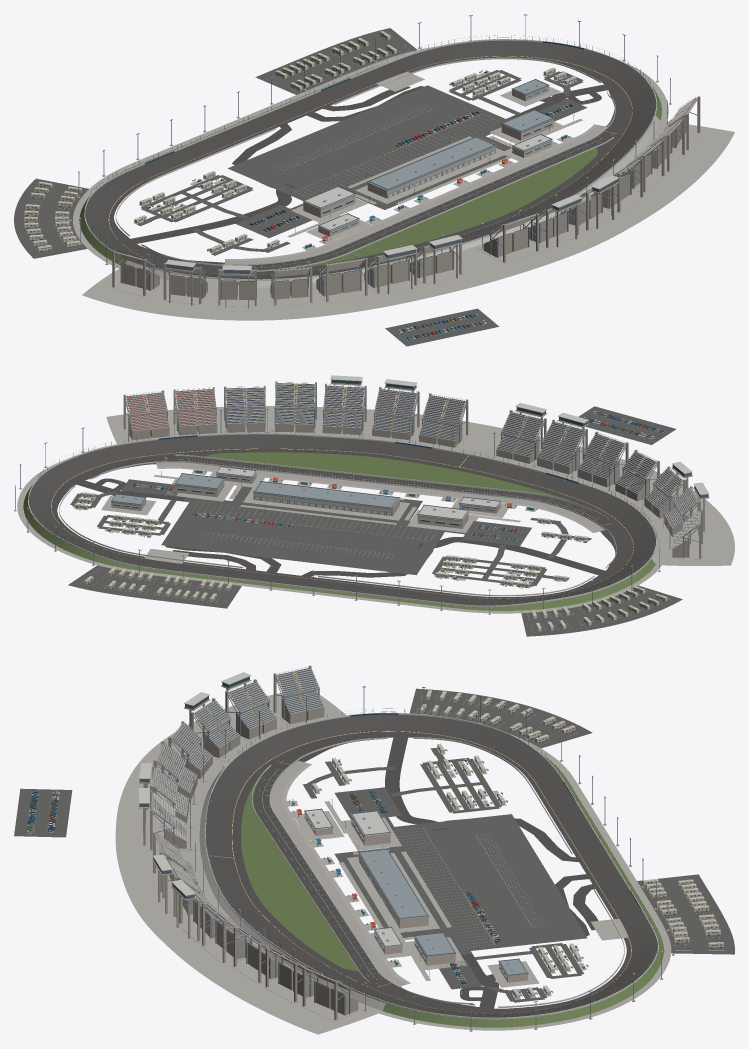
Rendered from RichmondRaceway.fbx.
The picture shows the model from 3 angles, top to bottom: view 1: azimuth 30°, elevation 25°; view 2: azimuth 150°, elevation 25°; view 3: azimuth 270°, elevation 25°; orthographic projection. The views are drawn at different scales.
Visible parts, largest first — view 1: Richmond paved safety access and recovery yard, Richmond frontstretch concrete concourse, Racing surface, Frontstretch grass median, Apron asphalt, Richmond infield campground roads and camping pads, Richmond 40-stall Cup garage, Pit road asphalt, Richmond backstretch RV camping paving and spaces, Richmond turn 3 RV camping paving and spaces, Richmond concrete perimeter walkway, Outside continuous concrete wall (+35 smaller); view 2: Racing surface, Richmond paved safety access and recovery yard, Richmond frontstretch concrete concourse, Frontstretch grass median, Apron asphalt, Richmond 40-stall Cup garage, Outer banking embankment, Richmond backstretch RV camping paving and spaces, Richmond turn 3 RV camping paving and spaces, Richmond concrete perimeter walkway, Richmond infield campground roads and camping pads, Outside continuous concrete wall (+38 smaller); view 3: Richmond paved safety access and recovery yard, Racing surface, Richmond frontstretch concrete concourse, Frontstretch grass median, Apron asphalt, Richmond infield campground roads and camping pads, Richmond concrete perimeter walkway, Pit road asphalt, Richmond 40-stall Cup garage, Richmond turn 3 RV camping paving and spaces, Outer banking embankment, Richmond backstretch RV camping paving and spaces (+33 smaller).
Boxes of the visible parts, <box> form: Richmond paved safety access and recovery yard: <box>228,71,570,209</box>; Richmond frontstretch concrete concourse: <box>82,115,734,320</box>; Racing surface: <box>85,40,656,279</box>; Frontstretch grass median: <box>292,147,597,268</box>; Apron asphalt: <box>109,56,631,274</box>; Richmond infield campground roads and camping pads: <box>133,70,583,255</box>; Richmond 40-stall Cup garage: <box>355,136,506,203</box>; Pit road asphalt: <box>245,127,621,270</box>; Richmond backstretch RV camping paving and spaces: <box>255,28,417,94</box>; Richmond turn 3 RV camping paving and spaces: <box>14,178,88,258</box>; Richmond concrete perimeter walkway: <box>73,46,668,290</box>; Outside continuous concrete wall: <box>84,39,656,280</box>; Racing surface: <box>29,434,655,605</box>; Richmond paved safety access and recovery yard: <box>111,486,465,577</box>; Richmond frontstretch concrete concourse: <box>106,406,734,565</box>; Frontstretch grass median: <box>200,452,592,511</box>; Apron asphalt: <box>51,449,632,598</box>; Richmond 40-stall Cup garage: <box>243,481,409,520</box>; Outer banking embankment: <box>23,485,655,610</box>; Richmond backstretch RV camping paving and spaces: <box>68,565,241,608</box>; Richmond turn 3 RV camping paving and spaces: <box>521,585,682,636</box>; Richmond concrete perimeter walkway: <box>17,437,666,613</box>; Richmond infield campground roads and camping pads: <box>70,491,591,588</box>; Outside continuous concrete wall: <box>28,433,656,607</box>; Richmond paved safety access and recovery yard: <box>334,814,628,987</box>; Racing surface: <box>206,714,657,1017</box>; Richmond frontstretch concrete concourse: <box>115,689,385,1034</box>; Frontstretch grass median: <box>241,777,358,971</box>; Apron asphalt: <box>232,731,631,1013</box>; Richmond infield campground roads and camping pads: <box>303,747,586,1002</box>; Richmond concrete perimeter walkway: <box>193,733,671,1030</box>; Pit road asphalt: <box>253,757,396,991</box>; Richmond 40-stall Cup garage: <box>347,848,439,933</box>; Richmond turn 3 RV camping paving and spaces: <box>409,688,592,748</box>; Outer banking embankment: <box>383,755,664,1027</box>; Richmond backstretch RV camping paving and spaces: <box>637,874,734,954</box>.
Size of what is drawn, in the model's own units: 55413 by 3414 by 48713.
